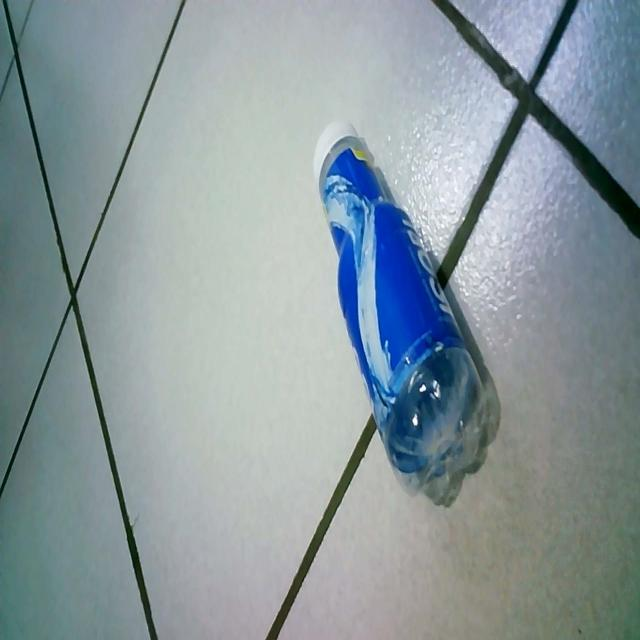botol: (288, 108, 512, 530)
